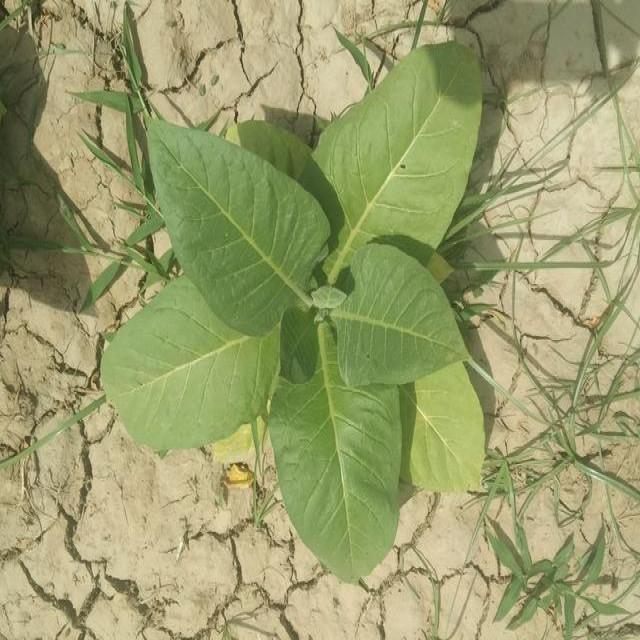crop: (95, 54, 498, 559)
